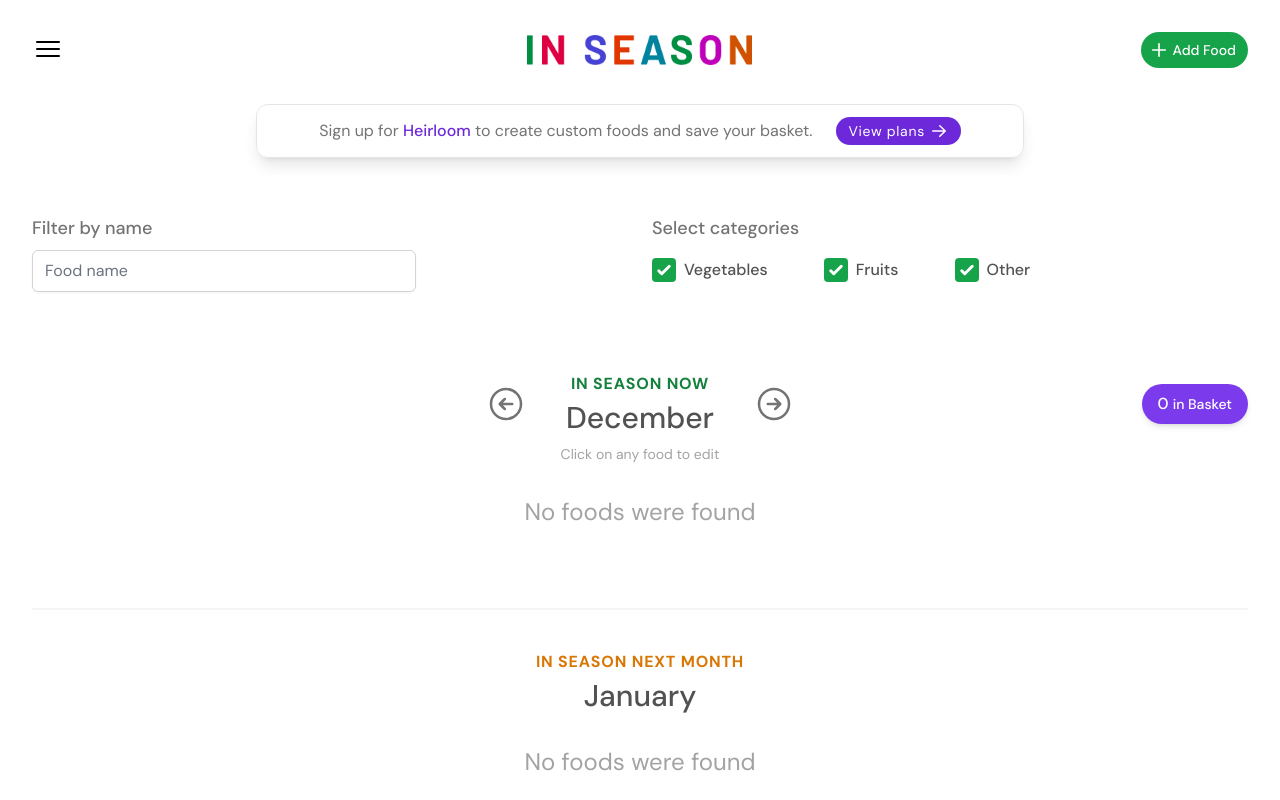
Test: app pages can be opened › login page can be opened
Click the button with id "menuButton" at (48, 49), box top-left (32, 33), bottom-right (64, 65)
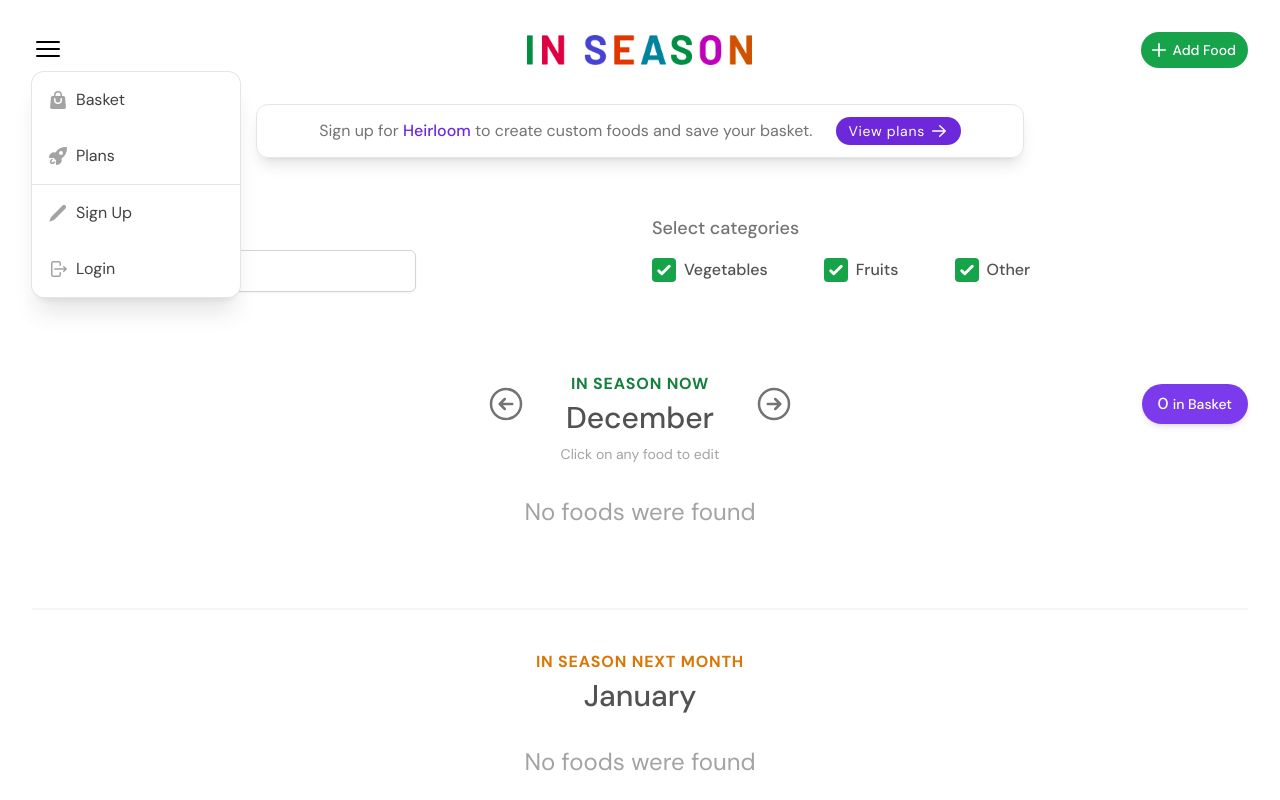
Click the link "Login" at (82, 269), box top-left (48, 258), bottom-right (115, 279)
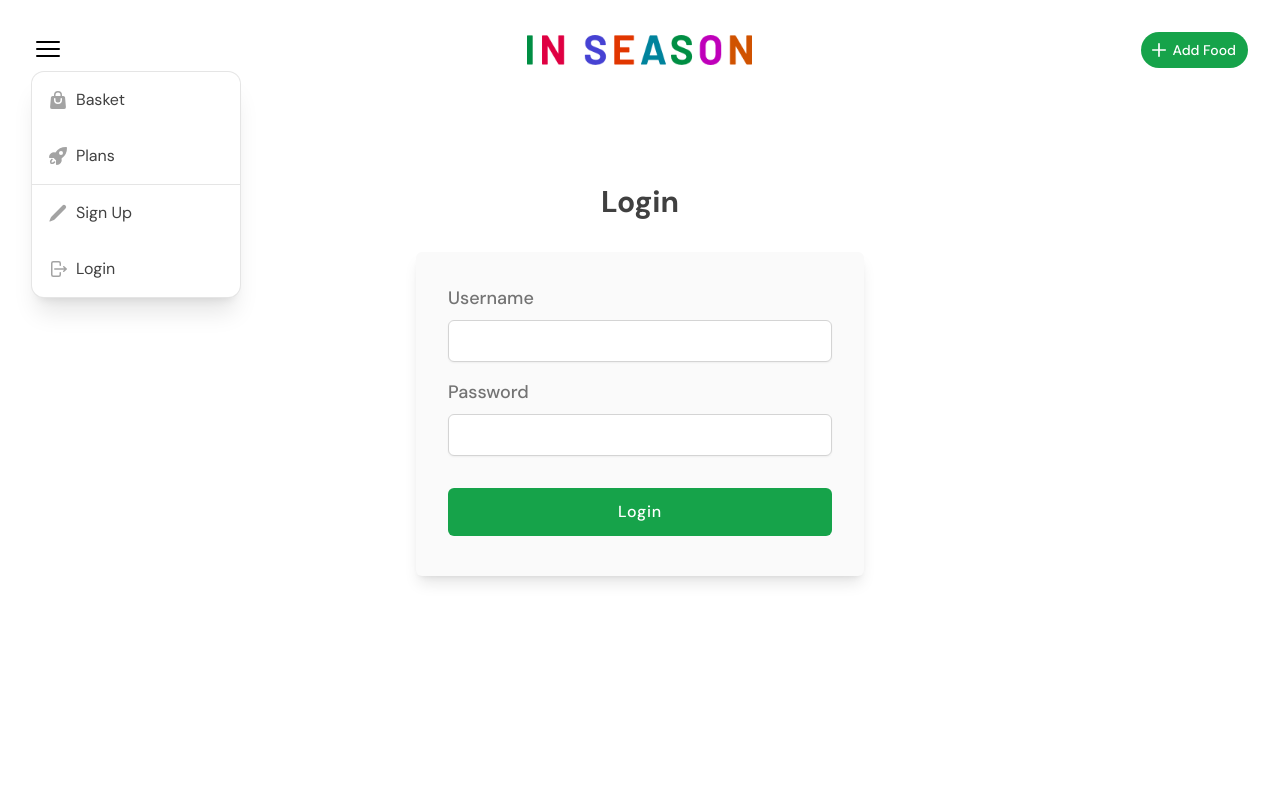
expect the link "Login" is shown: met, box top-left (48, 258), bottom-right (115, 278)
expect the label "Username" is shown: met, box top-left (448, 286), bottom-right (534, 310)
